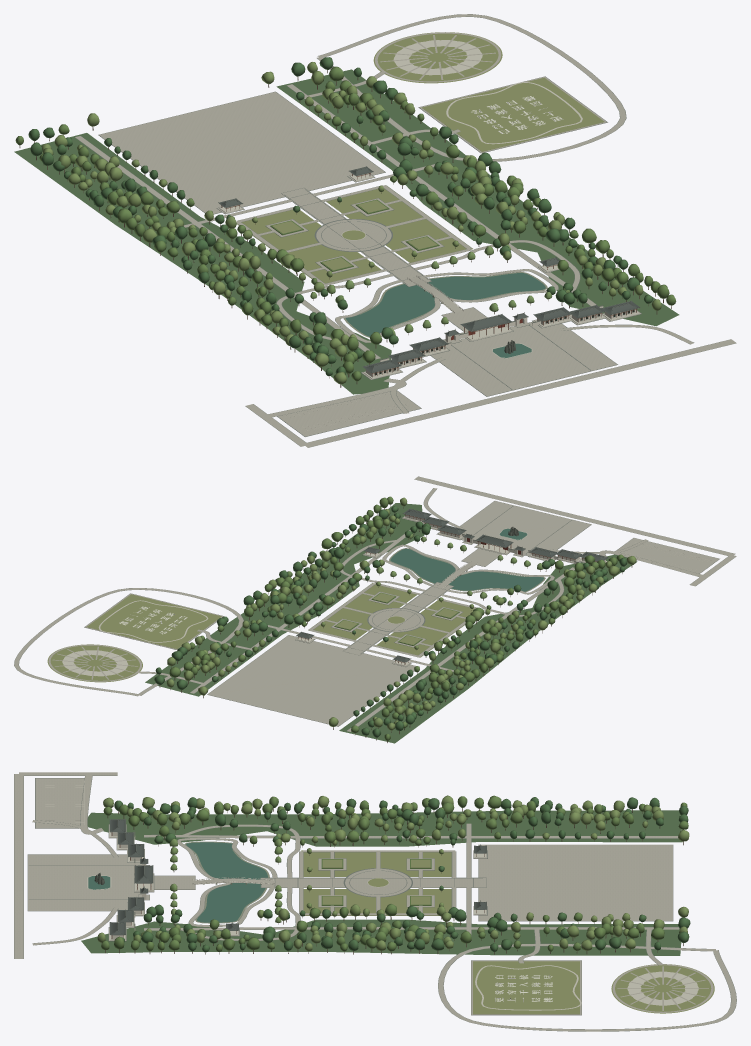
Rendered from guanque-surroundings.glb.
3 views of the same model, one above another, from view 1: azimuth 30°, elevation 25°; view 2: azimuth 150°, elevation 25°; view 3: azimuth 270°, elevation 25° (orthographic). The views are drawn at different scales.
Visible parts, largest first — view 1: 环楼广场与登楼轴线 / 灰石铺装, 两侧绿地与曲折园路 / 林下绿地, 两侧绿地与曲折园路 / 灰石铺装, 林带与沿岸树群 / 阔叶深绿, 林带与沿岸树群 / 阔叶中绿, 林带与沿岸树群 / 阔叶浅绿, 卫星图左侧 · 大地诗景 / 开敞草坪, 两侧绿地与曲折园路 / 开敞草坪, 前广场与假山水景 / 灰石铺装, 两侧绿地与曲折园路 / 铺装边线, 园内景观湖与中轴桥 / 园内景观水面, 入口配套与停车区 / 灰石铺装 (+11 smaller); view 2: 环楼广场与登楼轴线 / 灰石铺装, 两侧绿地与曲折园路 / 林下绿地, 两侧绿地与曲折园路 / 灰石铺装, 林带与沿岸树群 / 阔叶深绿, 林带与沿岸树群 / 阔叶浅绿, 林带与沿岸树群 / 阔叶中绿, 卫星图左侧 · 大地诗景 / 开敞草坪, 两侧绿地与曲折园路 / 开敞草坪, 前广场与假山水景 / 灰石铺装, 园内景观湖与中轴桥 / 园内景观水面, 两侧绿地与曲折园路 / 铺装边线, 入口配套与停车区 / 灰石铺装 (+10 smaller); view 3: 两侧绿地与曲折园路 / 林下绿地, 环楼广场与登楼轴线 / 灰石铺装, 两侧绿地与曲折园路 / 灰石铺装, 林带与沿岸树群 / 阔叶深绿, 林带与沿岸树群 / 阔叶中绿, 林带与沿岸树群 / 阔叶浅绿, 卫星图左侧 · 大地诗景 / 开敞草坪, 前广场与假山水景 / 灰石铺装, 两侧绿地与曲折园路 / 开敞草坪, 园内景观湖与中轴桥 / 园内景观水面, 两侧绿地与曲折园路 / 铺装边线, 入口配套与停车区 / 灰石铺装 (+11 smaller).
Boxes of the visible parts, x1,y1,x2,y2 form: 环楼广场与登楼轴线 / 灰石铺装: [99, 92, 430, 286]; 两侧绿地与曲折园路 / 林下绿地: [14, 69, 679, 394]; 两侧绿地与曲折园路 / 灰石铺装: [75, 14, 736, 447]; 林带与沿岸树群 / 阔叶深绿: [28, 57, 652, 375]; 林带与沿岸树群 / 阔叶中绿: [15, 66, 676, 381]; 林带与沿岸树群 / 阔叶浅绿: [41, 62, 661, 384]; 卫星图左侧 · 大地诗景 / 开敞草坪: [373, 32, 604, 151]; 两侧绿地与曲折园路 / 开敞草坪: [236, 187, 472, 283]; 前广场与假山水景 / 灰石铺装: [431, 322, 616, 396]; 两侧绿地与曲折园路 / 铺装边线: [75, 14, 735, 447]; 园内景观湖与中轴桥 / 园内景观水面: [346, 273, 545, 336]; 入口配套与停车区 / 灰石铺装: [278, 391, 420, 436]; 环楼广场与登楼轴线 / 灰石铺装: [208, 582, 453, 726]; 两侧绿地与曲折园路 / 林下绿地: [145, 503, 637, 743]; 两侧绿地与曲折园路 / 灰石铺装: [14, 476, 736, 731]; 林带与沿岸树群 / 阔叶深绿: [154, 506, 627, 737]; 林带与沿岸树群 / 阔叶浅绿: [166, 497, 636, 730]; 林带与沿岸树群 / 阔叶中绿: [169, 496, 624, 740]; 卫星图左侧 · 大地诗景 / 开敞草坪: [47, 594, 221, 682]; 两侧绿地与曲折园路 / 开敞草坪: [308, 583, 484, 657]; 前广场与假山水景 / 灰石铺装: [460, 501, 591, 555]; 园内景观湖与中轴桥 / 园内景观水面: [390, 548, 544, 591]; 两侧绿地与曲折园路 / 铺装边线: [14, 476, 735, 730]; 入口配套与停车区 / 灰石铺装: [616, 538, 719, 573]; 两侧绿地与曲折园路 / 林下绿地: [81, 810, 682, 955]; 环楼广场与登楼轴线 / 灰石铺装: [261, 844, 672, 920]; 两侧绿地与曲折园路 / 灰石铺装: [14, 772, 736, 1031]; 林带与沿岸树群 / 阔叶深绿: [114, 797, 690, 952]; 林带与沿岸树群 / 阔叶中绿: [101, 795, 688, 951]; 林带与沿岸树群 / 阔叶浅绿: [97, 795, 689, 951]; 卫星图左侧 · 大地诗景 / 开敞草坪: [473, 961, 714, 1014]; 前广场与假山水景 / 灰石铺装: [28, 854, 141, 910]; 两侧绿地与曲折园路 / 开敞草坪: [301, 850, 451, 915]; 园内景观湖与中轴桥 / 园内景观水面: [186, 842, 267, 922]; 两侧绿地与曲折园路 / 铺装边线: [14, 774, 736, 1031]; 入口配套与停车区 / 灰石铺装: [35, 778, 84, 828].
Bounding box in the file's own units: 535 × 15.68 × 630.
Materials: 21 (4 with a texture image).
